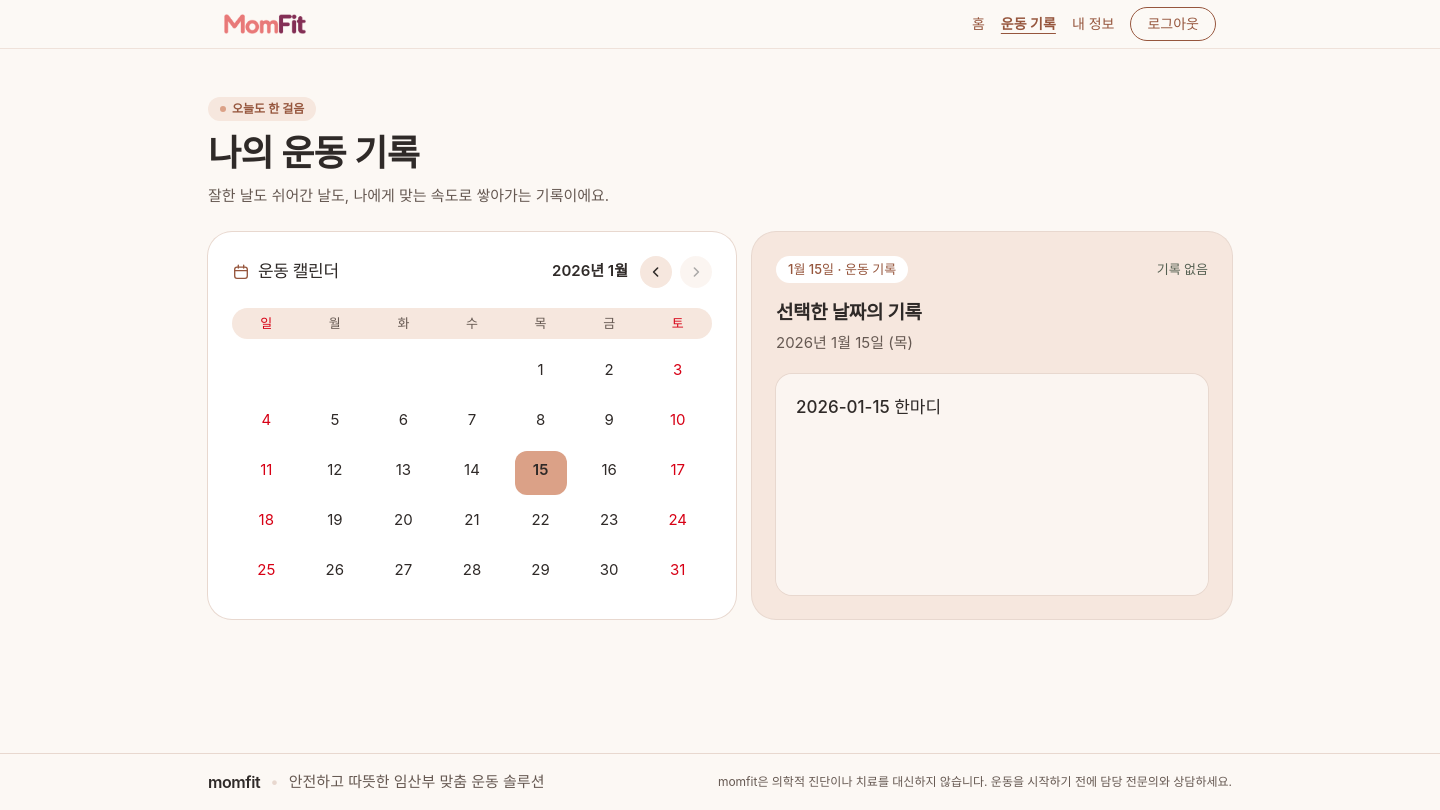
RecordsPage › 연도를 넘어 이전 달로 갈 수 있다
What coordinates should you click on to do the following:
click the button named "이전 달"
I would click on:
 (656, 272)
Its box is left=640, top=256, right=672, bottom=288.
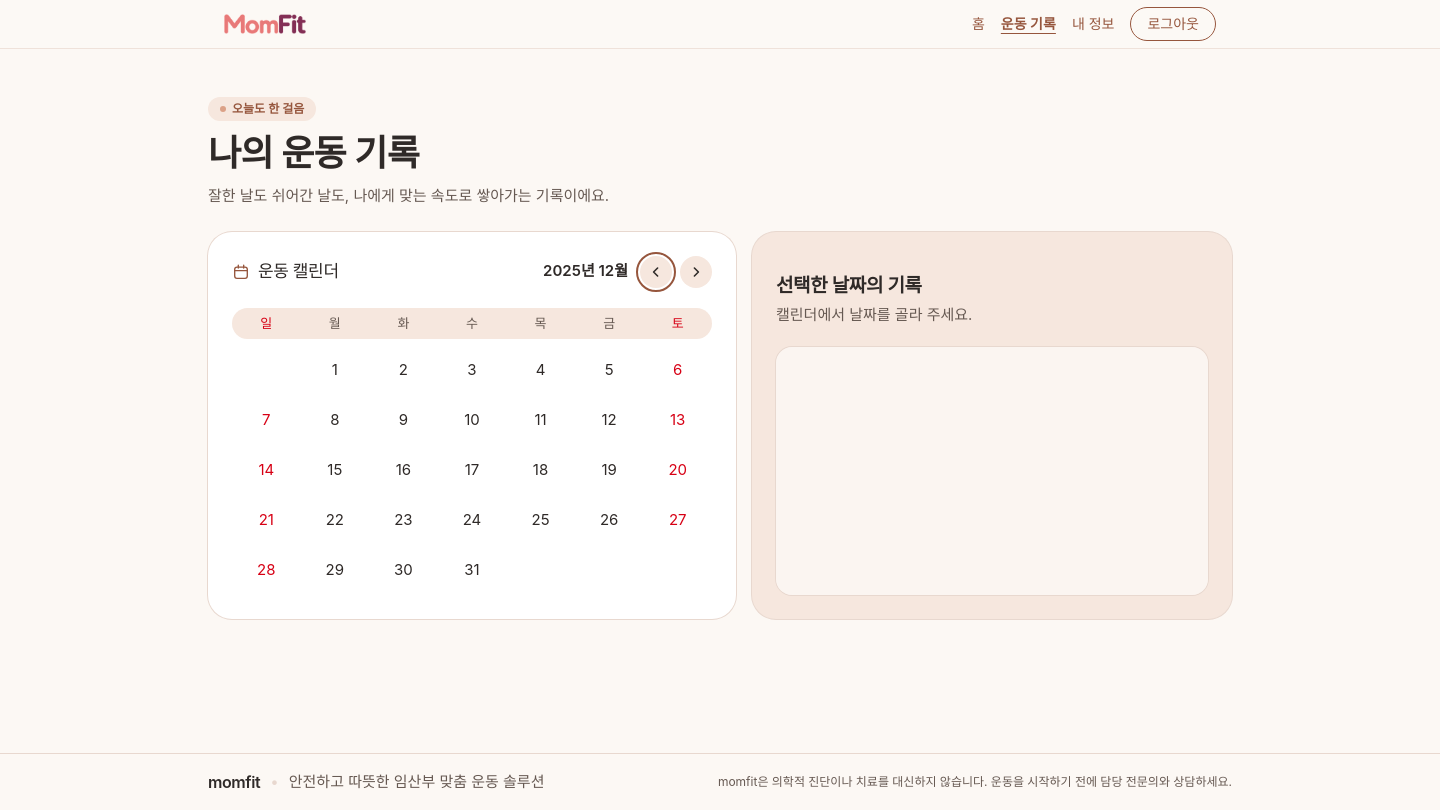
Result: the element "운동 캘린더" shows "2025년 12월" at left=208, top=232, right=736, bottom=619
